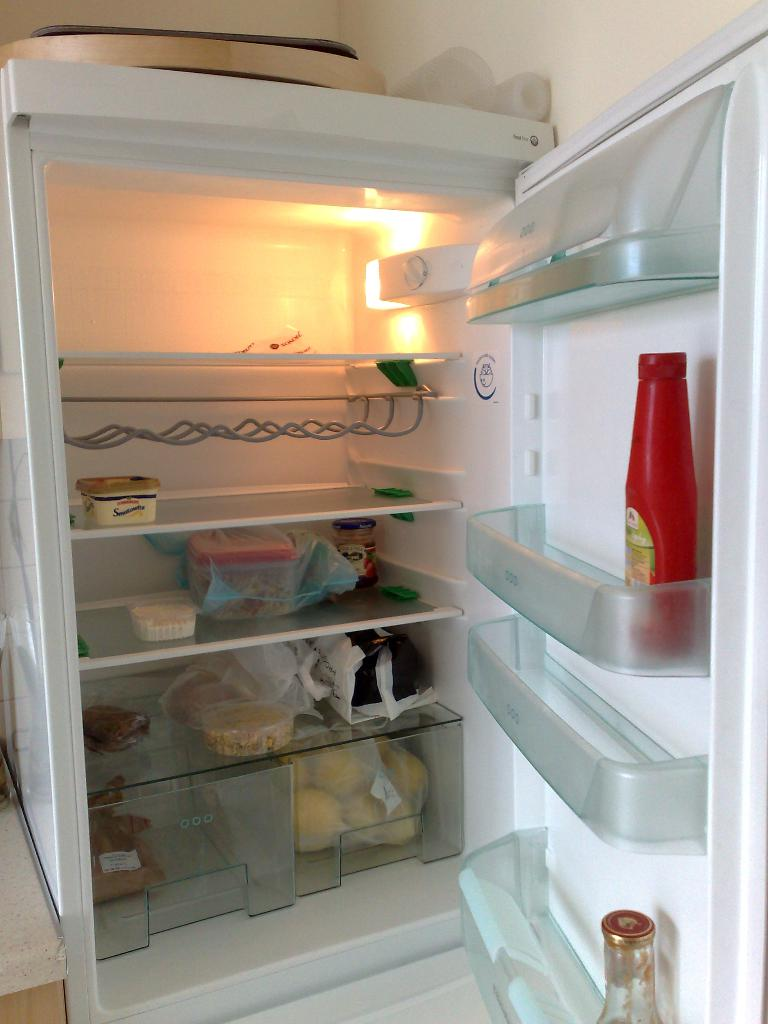refrigerator door: (522, 220, 741, 1018)
